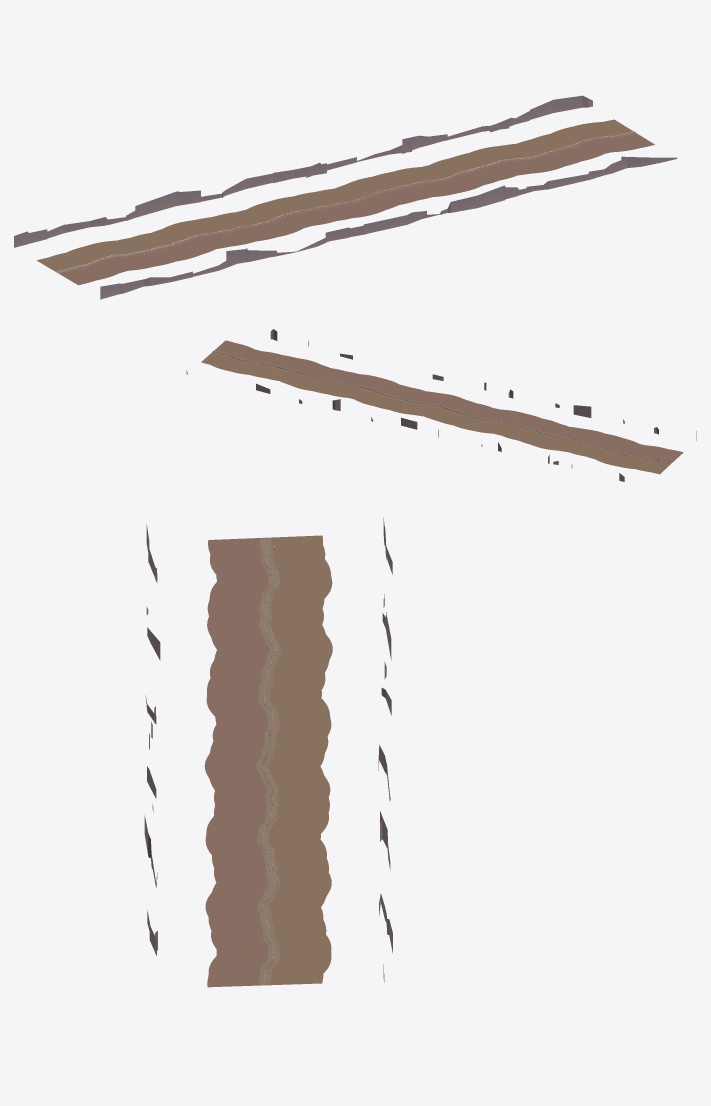
File: marrakech.glb
3 renders of one model, top to bottom at view 1: azimuth 30°, elevation 25°; view 2: azimuth 150°, elevation 25°; view 3: azimuth 270°, elevation 25°, orthographic. The views are drawn at different scales.
Parts seen in each view (by area): view 1: Peaks; view 2: Peaks, JemaaSquare_013, JemaaSquare_042, JemaaSquare_008, JemaaSquare_034, JemaaSquare_044, JemaaSquare_051, JemaaSquare_016, JemaaSquare_006, JemaaSquare_015, JemaaSquare_035, JemaaSquare_005 (+1 smaller); view 3: Peaks, JemaaSquare_002, JemaaSquare_013, JemaaSquare_039, JemaaSquare_042, JemaaSquare_001, JemaaSquare_044, JemaaSquare_028, JemaaSquare_051, JemaaSquare_038, JemaaSquare_023, JemaaSquare_043 (+43 smaller).
Part boxes in pixels (x1,y1,x2,y2): Peaks: [14, 95, 677, 299]; Peaks: [186, 329, 696, 481]; JemaaSquare_013: [533, 427, 570, 450]; JemaaSquare_042: [289, 367, 331, 389]; JemaaSquare_008: [585, 434, 621, 456]; JemaaSquare_034: [355, 384, 399, 405]; JemaaSquare_044: [278, 360, 321, 381]; JemaaSquare_051: [211, 349, 254, 370]; JemaaSquare_016: [515, 418, 554, 440]; JemaaSquare_006: [595, 440, 640, 460]; JemaaSquare_015: [519, 422, 559, 443]; JemaaSquare_035: [355, 379, 398, 399]; JemaaSquare_005: [598, 446, 636, 465]; Peaks: [144, 517, 392, 982]; JemaaSquare_002: [210, 554, 325, 567]; JemaaSquare_013: [218, 638, 332, 657]; JemaaSquare_039: [212, 857, 328, 867]; JemaaSquare_042: [215, 881, 331, 895]; JemaaSquare_001: [208, 544, 325, 554]; JemaaSquare_044: [205, 892, 322, 908]; JemaaSquare_028: [205, 764, 322, 779]; JemaaSquare_051: [216, 955, 331, 973]; JemaaSquare_038: [212, 842, 326, 857]; JemaaSquare_023: [213, 724, 330, 736]; JemaaSquare_043: [212, 885, 326, 904].
Bounding box in the file's own units: 16556 × 329 × 5139.
